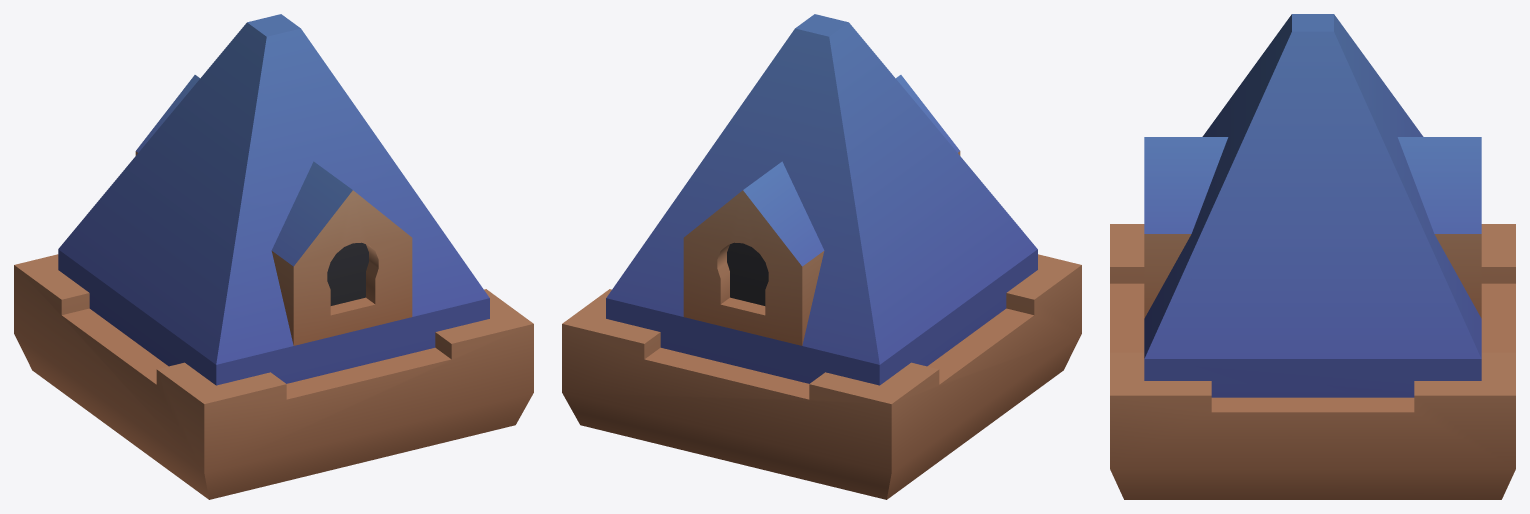
The model's file is tower-square-top-roof-high-windows.glb.
The picture shows the model from 3 angles, left to right: view 1: azimuth 30°, elevation 25°; view 2: azimuth 150°, elevation 25°; view 3: azimuth 270°, elevation 25°; orthographic projection. The views are drawn at different scales.
Parts seen in each view (by area): view 1: tower-square-top-roof-high-windows; view 2: tower-square-top-roof-high-windows; view 3: tower-square-top-roof-high-windows.
Part boxes in pixels (x1,y1,x2,y2): tower-square-top-roof-high-windows: (14, 14, 533, 499); tower-square-top-roof-high-windows: (562, 14, 1081, 499); tower-square-top-roof-high-windows: (1110, 14, 1515, 499).
Bounding box in the file's own units: 1 × 1.08 × 1.
